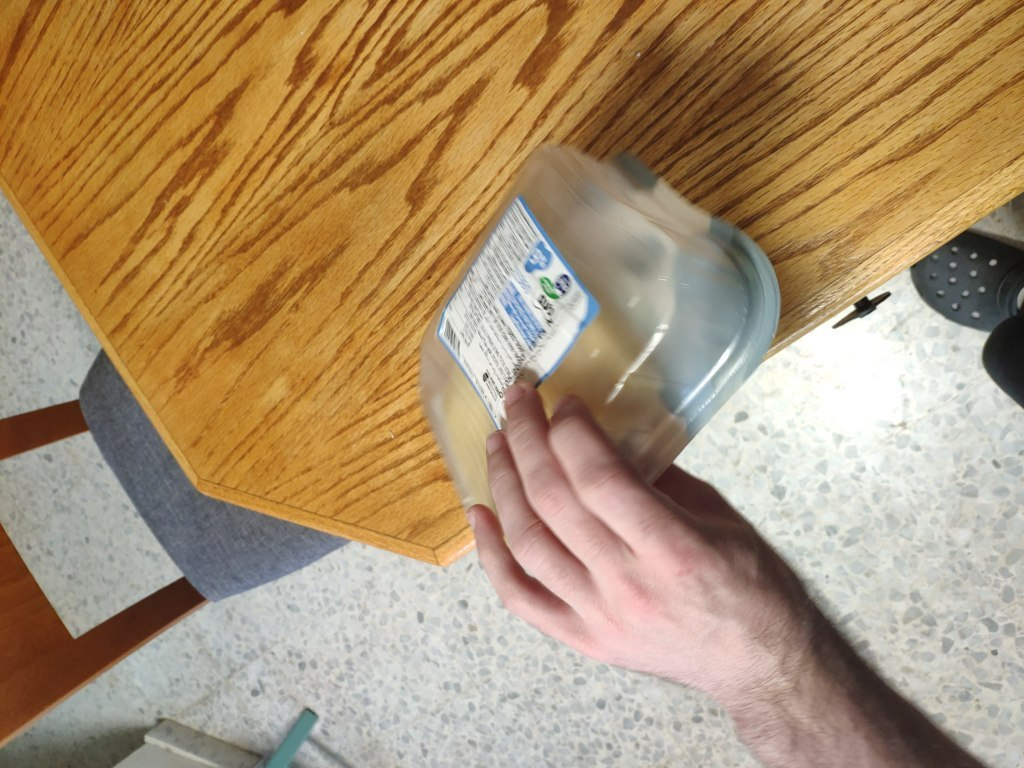Cheese: (408, 137, 755, 597)
